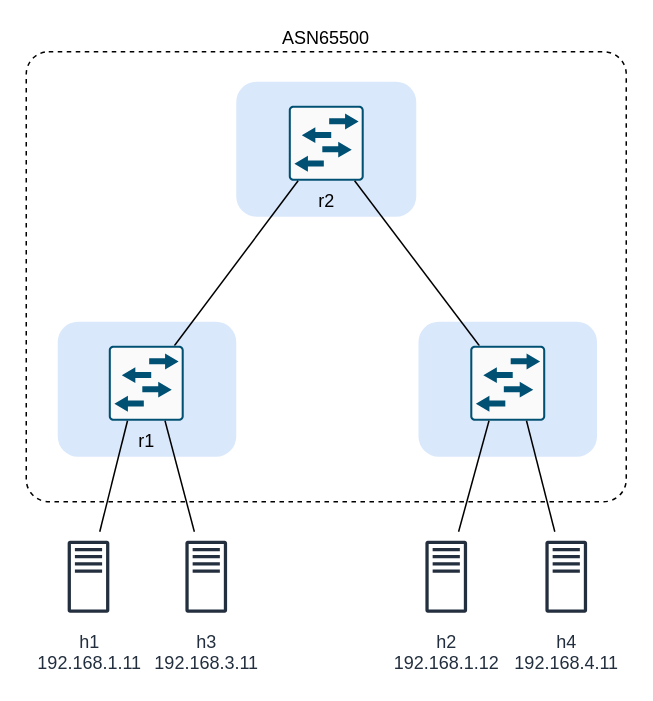
The diagram is 653 pixels wide and 701 high, and some of its shapes have lost their labels. The shapes that lost their labels are listed below. From the top down, each one's box as (x1, y1, x2, y2) in pixels, then its label:
(236, 81, 416, 216): AS65000
(57, 321, 236, 456): AS65001
(469, 344, 545, 421): r3
(418, 321, 596, 456): AS65002
